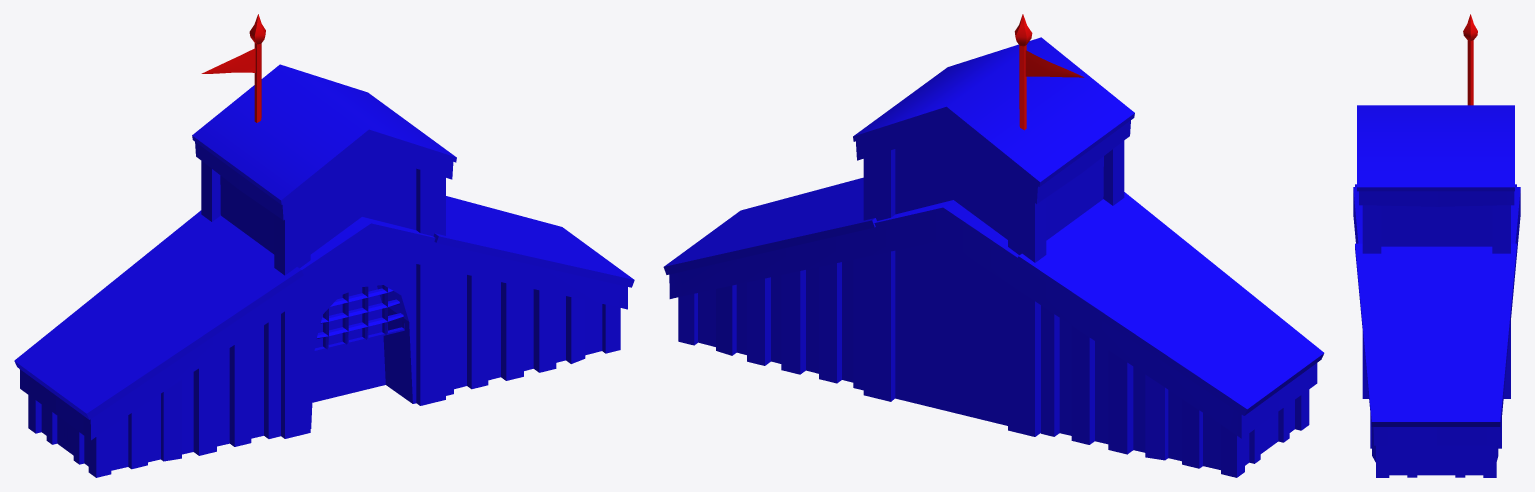
File: 3D_TownHallOld.FBX
The picture shows the model from 3 angles, left to right: view 1: azimuth 30°, elevation 25°; view 2: azimuth 150°, elevation 25°; view 3: azimuth 270°, elevation 25°; orthographic projection. The views are drawn at different scales.
Parts seen in each view (by area): view 1: Box003, Cylinder002; view 2: Box003, Cylinder002; view 3: Box003, Cylinder002.
Boxes of the visible parts, bbox=[...] form: Box003: bbox=[14, 64, 634, 477]; Cylinder002: bbox=[201, 14, 265, 122]; Box003: bbox=[663, 37, 1324, 477]; Cylinder002: bbox=[1014, 14, 1084, 130]; Box003: bbox=[1353, 105, 1520, 477]; Cylinder002: bbox=[1463, 14, 1477, 105].
Bounding box in the file's own units: 1049 × 681 × 313.
